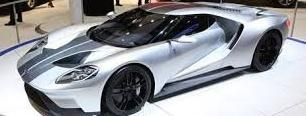Cars: (18, 5, 290, 116)
